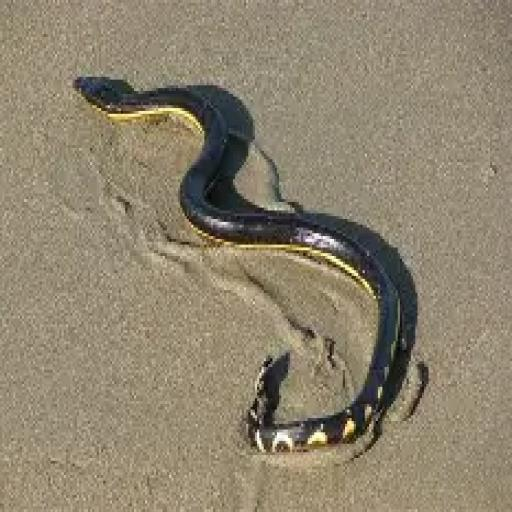snake: (75, 77, 402, 452)
